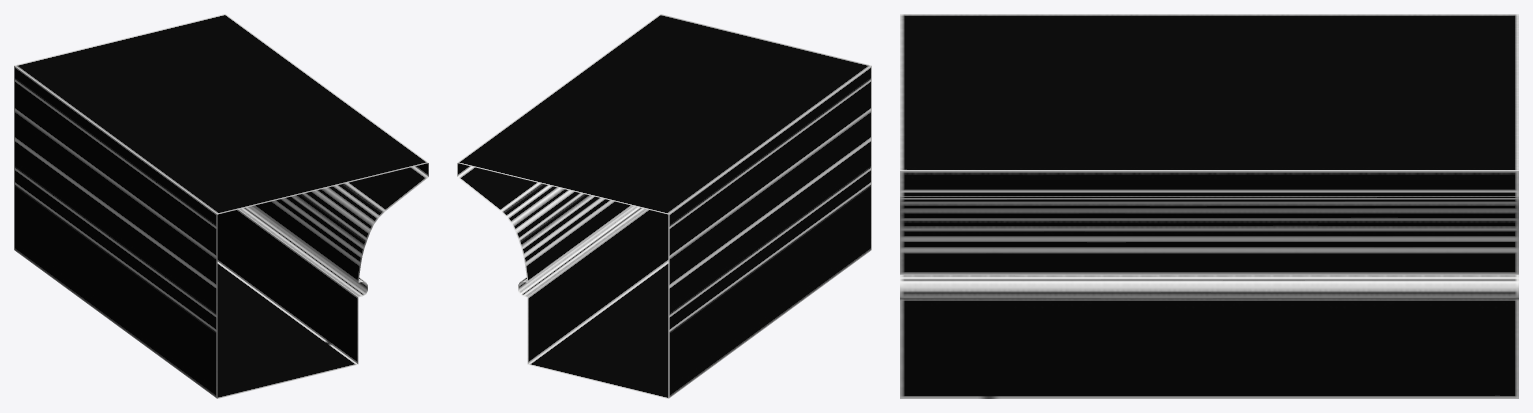
File: RoofBorder_Straight01.fbx
3 renders of one model, left to right at view 1: azimuth 30°, elevation 25°; view 2: azimuth 150°, elevation 25°; view 3: azimuth 270°, elevation 25°, orthographic. The views are drawn at different scales.
Parts seen in each view (by area): view 1: Roof01; view 2: Roof01; view 3: Roof01.
Part boxes in pixels (x1,y1,x2,y2): Roof01: (14,14,428,398); Roof01: (457,14,871,398); Roof01: (900,14,1518,398).
Bounding box in the file's own units: 300 × 250 × 500.
1 material, 1 textured.
